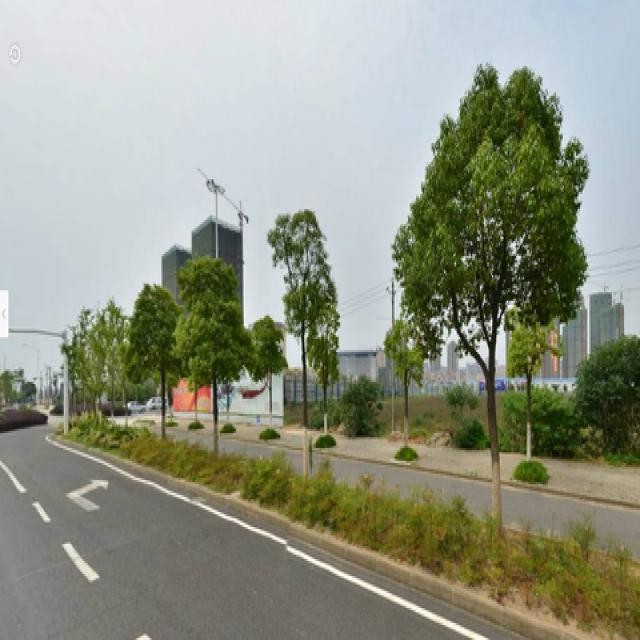cinn: (382, 64, 590, 557)
